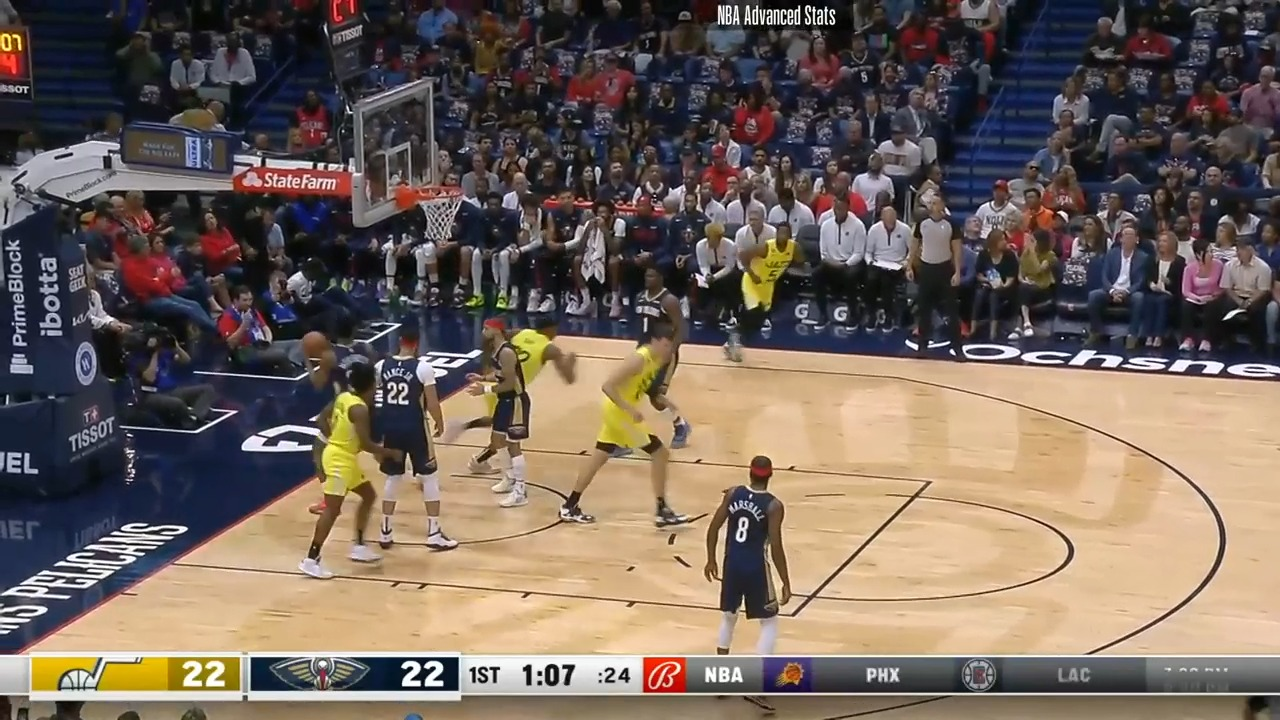net: (393, 179, 464, 243)
player: (559, 322, 687, 530), (449, 312, 582, 471), (300, 364, 395, 580), (368, 320, 456, 553), (703, 451, 795, 653), (466, 315, 532, 508), (721, 219, 810, 361), (631, 265, 694, 449), (305, 320, 383, 408)
referee: (911, 192, 969, 364)
